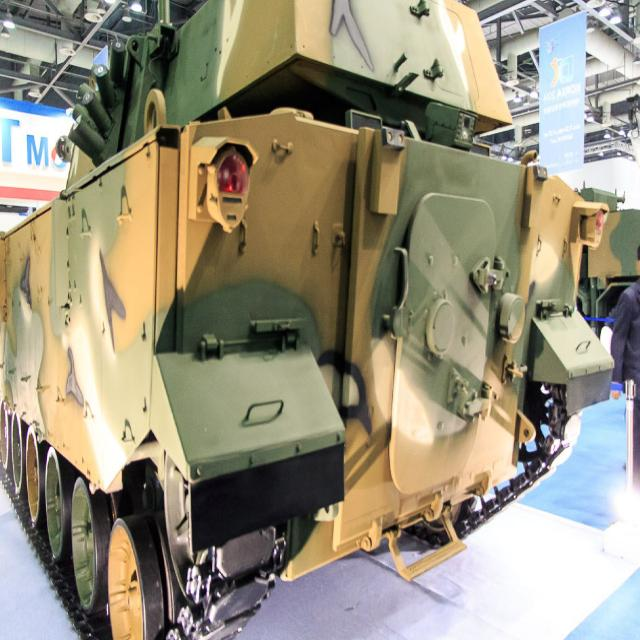Tank: (0, 0, 586, 562)
